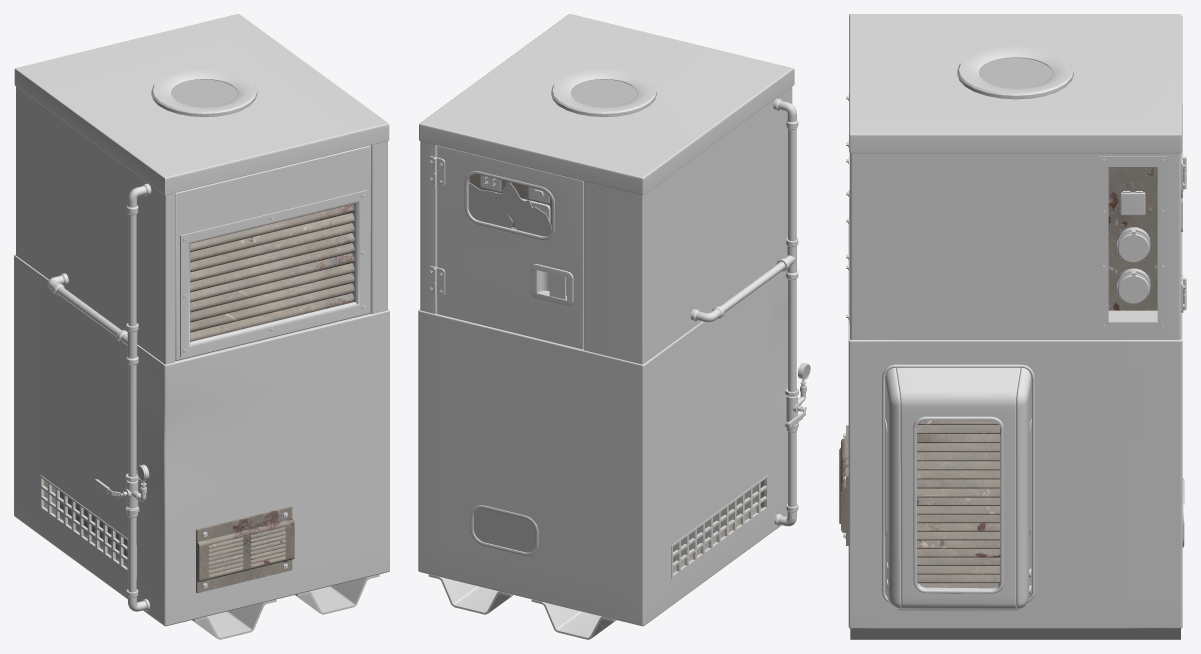
The model's file is PowerGeneratorD.fbx.
3 renders of one model, left to right at view 1: azimuth 30°, elevation 25°; view 2: azimuth 150°, elevation 25°; view 3: azimuth 270°, elevation 25°, orthographic. The views are drawn at different scales.
Parts seen in each view (by area): view 1: PowerGeneratorD; view 2: PowerGeneratorD; view 3: PowerGeneratorD.
Part boxes in pixels (x1=…): PowerGeneratorD: x1=14, y1=14, x2=389, y2=639; PowerGeneratorD: x1=418, y1=14, x2=810, y2=639; PowerGeneratorD: x1=839, y1=14, x2=1186, y2=639.
Size of the model in its own units: 1.21 by 1.98 by 1.18.
